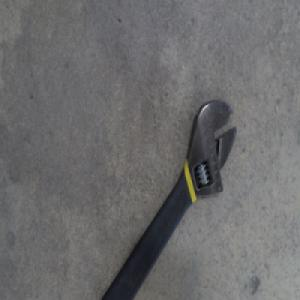AdjustableWrench: (101, 99, 239, 299)
